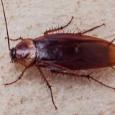cockroach: (10, 28, 115, 78)
